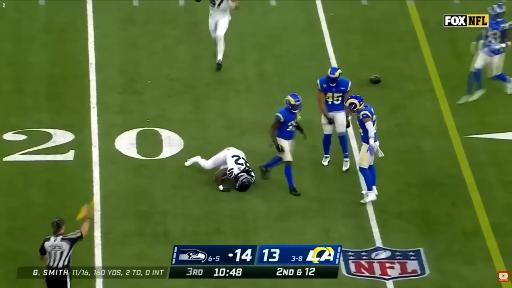Helmet: (235, 170, 252, 191), (346, 95, 364, 113), (286, 93, 301, 112), (489, 3, 505, 20), (327, 67, 341, 85)
Jersey: (318, 77, 351, 112), (483, 19, 509, 56), (357, 105, 377, 144), (225, 148, 250, 178), (276, 107, 297, 140), (210, 0, 231, 15)
Player: (458, 3, 511, 103), (260, 93, 306, 195), (346, 95, 383, 203), (317, 67, 350, 171), (185, 147, 255, 191), (209, 0, 238, 71)
